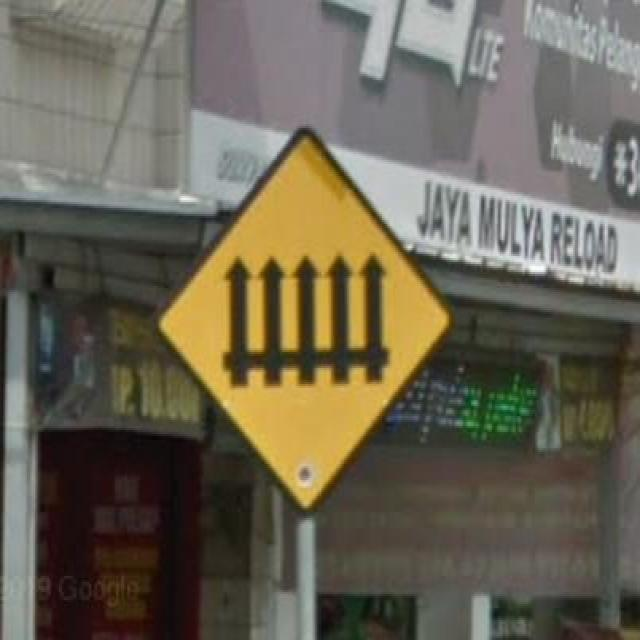railway_crossing: (170, 142, 449, 500)
